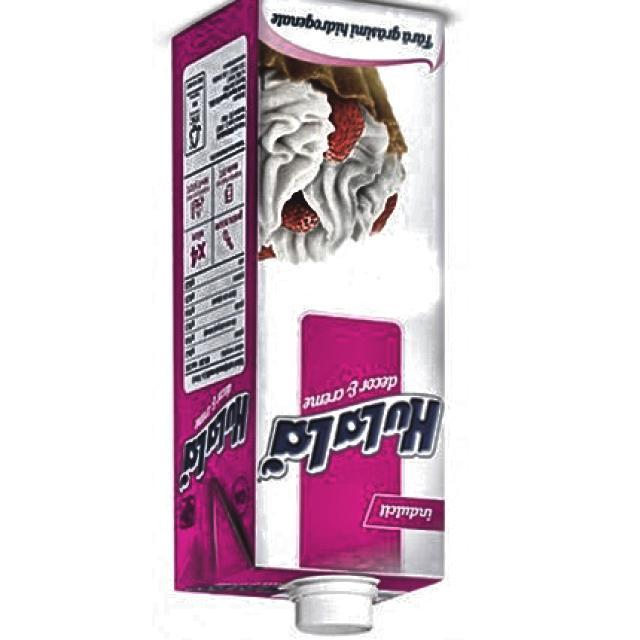cardboard: (171, 0, 450, 634)
